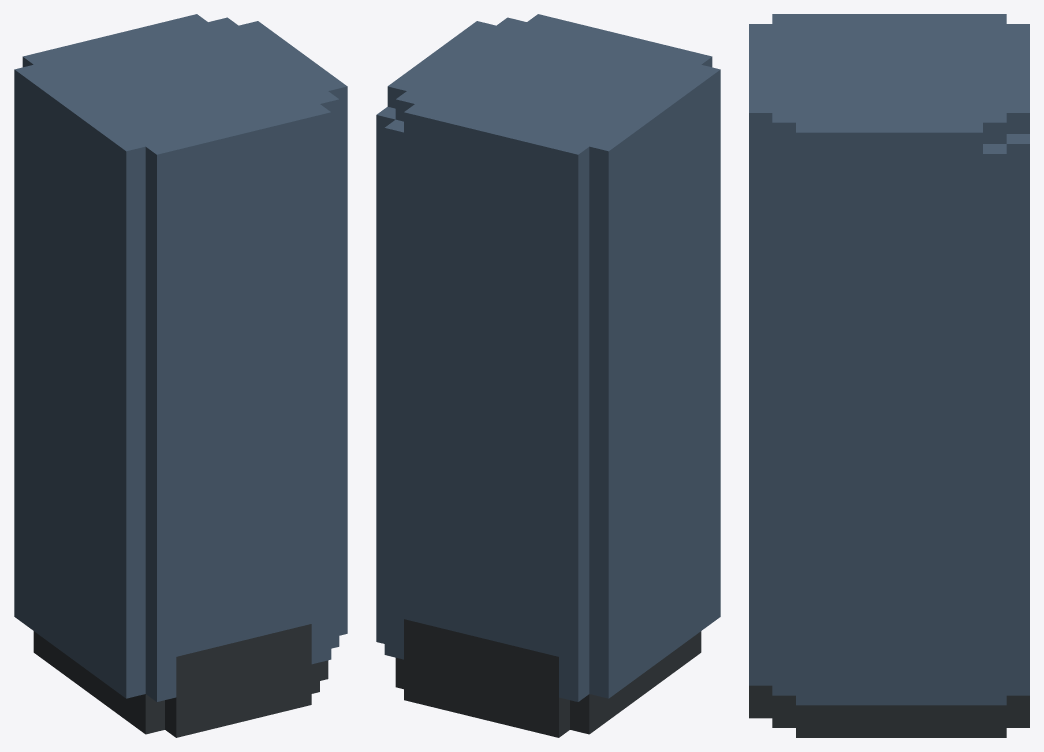
File: worn_jacket_fore.glb
3 renders of one model, left to right at view 1: azimuth 30°, elevation 25°; view 2: azimuth 150°, elevation 25°; view 3: azimuth 270°, elevation 25°, orthographic. The views are drawn at different scales.
Parts seen in each view (by area): view 1: garment:compound; view 2: garment:compound; view 3: garment:compound.
Boxes of the visible parts, bbox=[...] form: garment:compound: bbox=[14, 14, 347, 737]; garment:compound: bbox=[376, 14, 720, 737]; garment:compound: bbox=[749, 14, 1029, 737].
Size of the model in its own units: 0.12 by 0.29 by 0.12.
